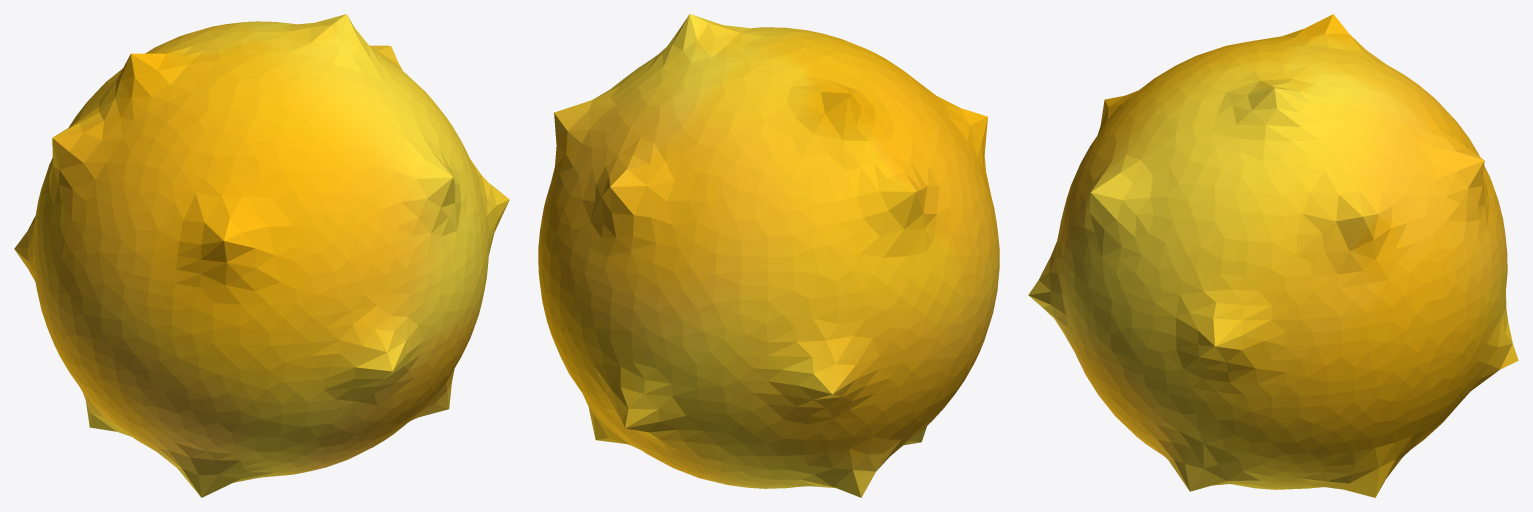
The model's file is sun.gltf.
3 renders of one model, left to right at view 1: azimuth 30°, elevation 25°; view 2: azimuth 150°, elevation 25°; view 3: azimuth 270°, elevation 25°, orthographic. The views are drawn at different scales.
Visible parts, largest first — view 1: Sun; view 2: Sun; view 3: Sun.
Boxes of the visible parts, left/top/right/bottom form: Sun: left=14, top=14, right=509, bottom=497; Sun: left=538, top=14, right=999, bottom=497; Sun: left=1028, top=14, right=1518, bottom=497.
Size of the model in its own units: 2.11 by 2.08 by 2.2.
Materials: 1 (1 with a texture image).
